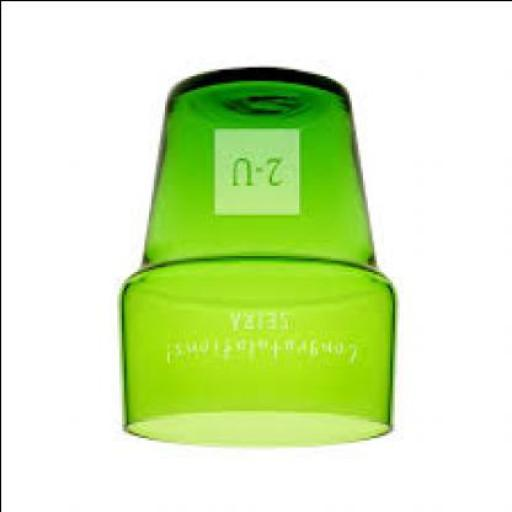glass: (120, 68, 398, 449)
